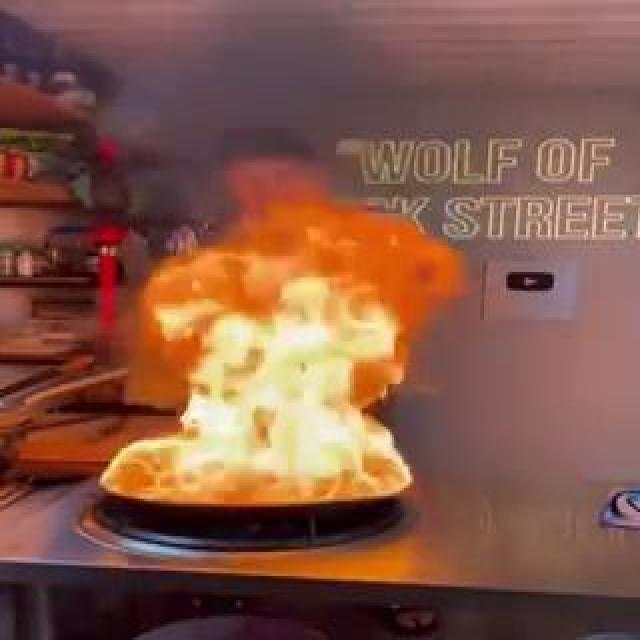Fire: (274, 330, 358, 362)
